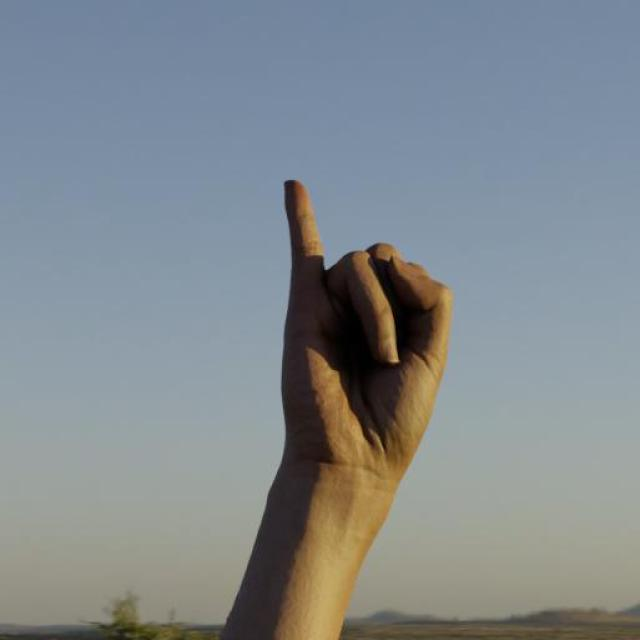I: (282, 176, 454, 470)
